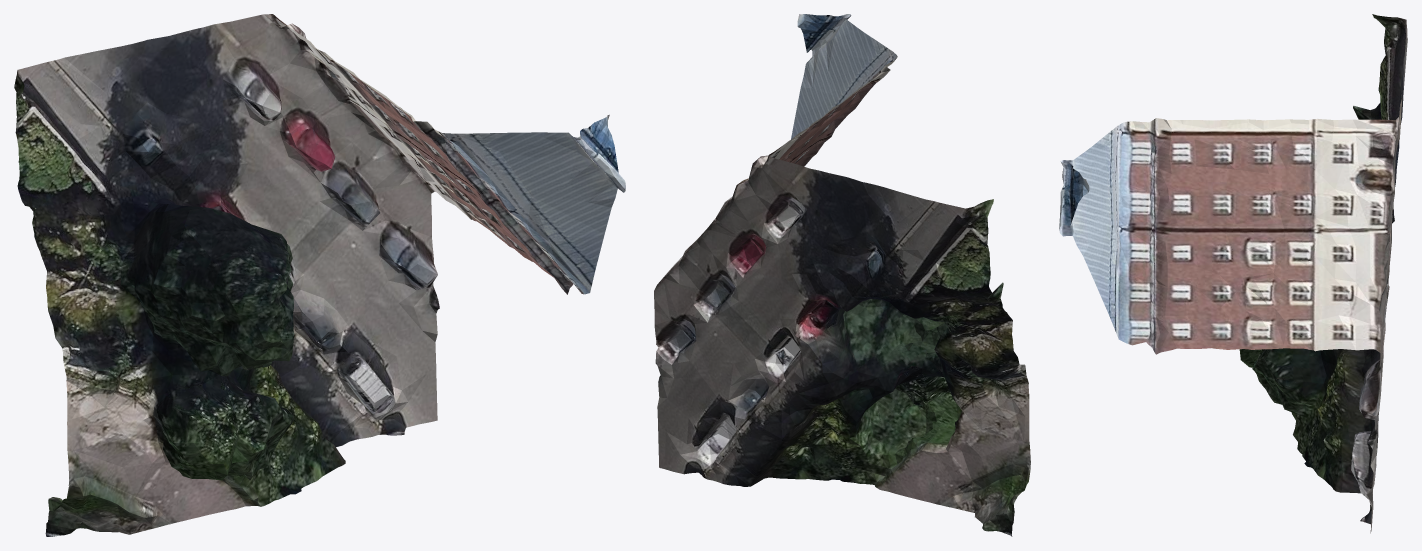
File: Tile_+031_+022_L20_0000310.obj
The picture shows the model from 3 angles, left to right: view 1: azimuth 30°, elevation 25°; view 2: azimuth 150°, elevation 25°; view 3: azimuth 270°, elevation 25°; orthographic projection. The views are drawn at different scales.
Bounding box in the file's own units: 31.5 × 31.5 × 27.91.
Materials: 1 (1 with a texture image).
